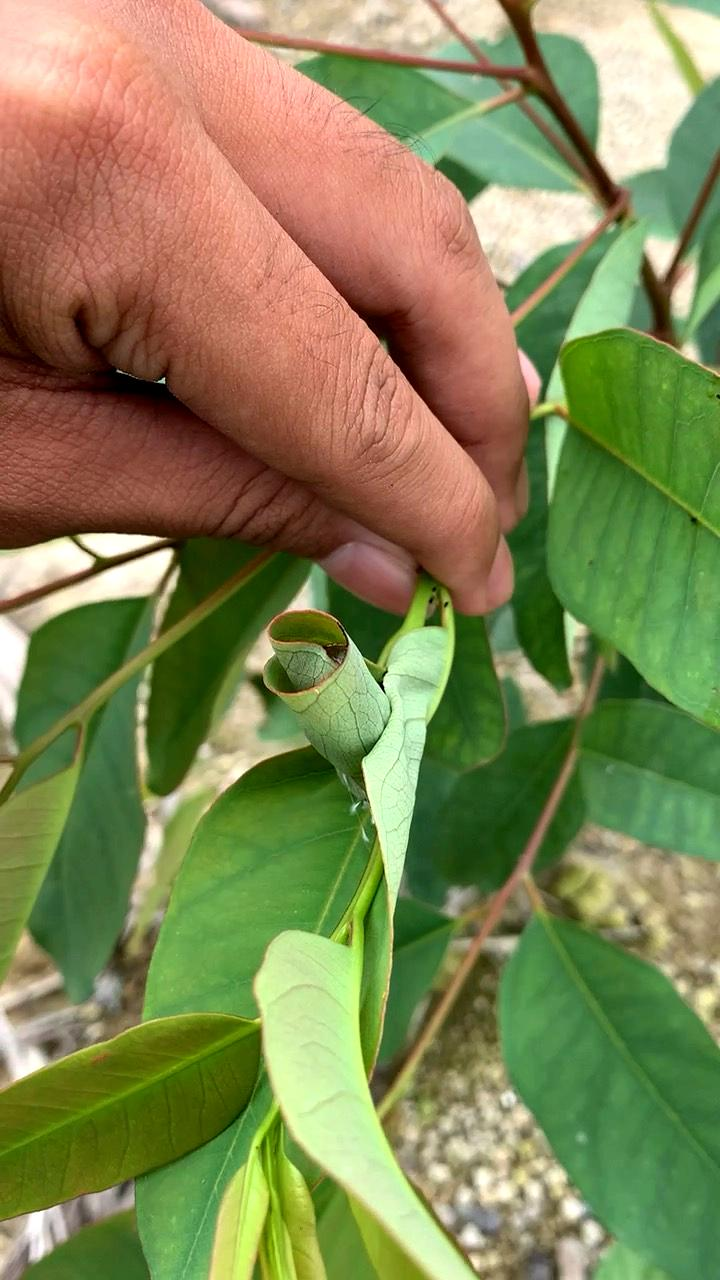Leaf Roller - Leaf: (246, 590, 429, 878)
